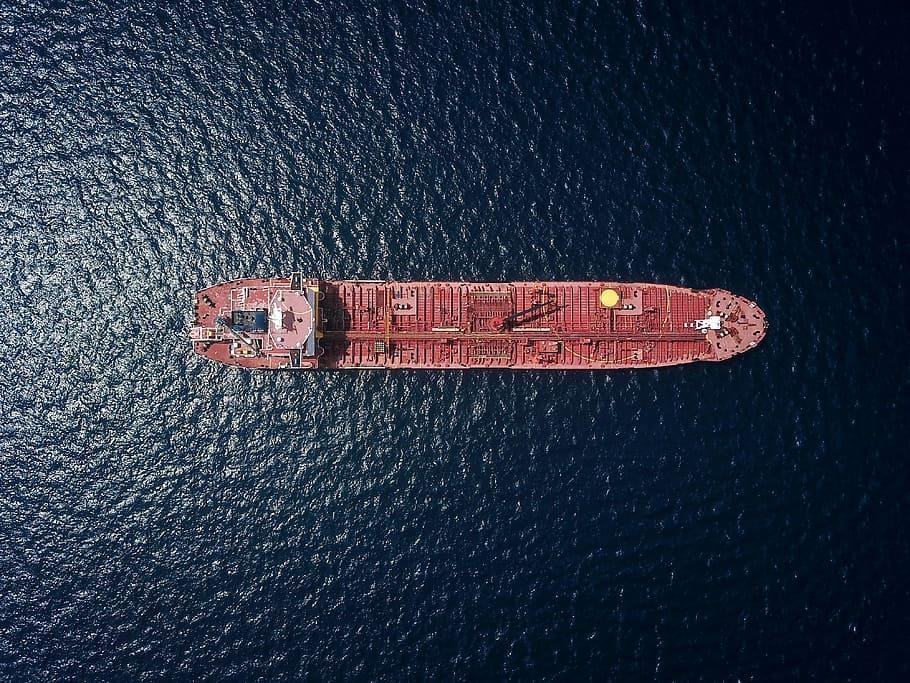Boat: (186, 268, 779, 378)
